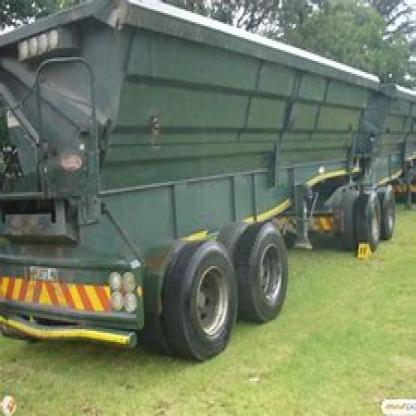dump_truck: (11, 2, 414, 372)
